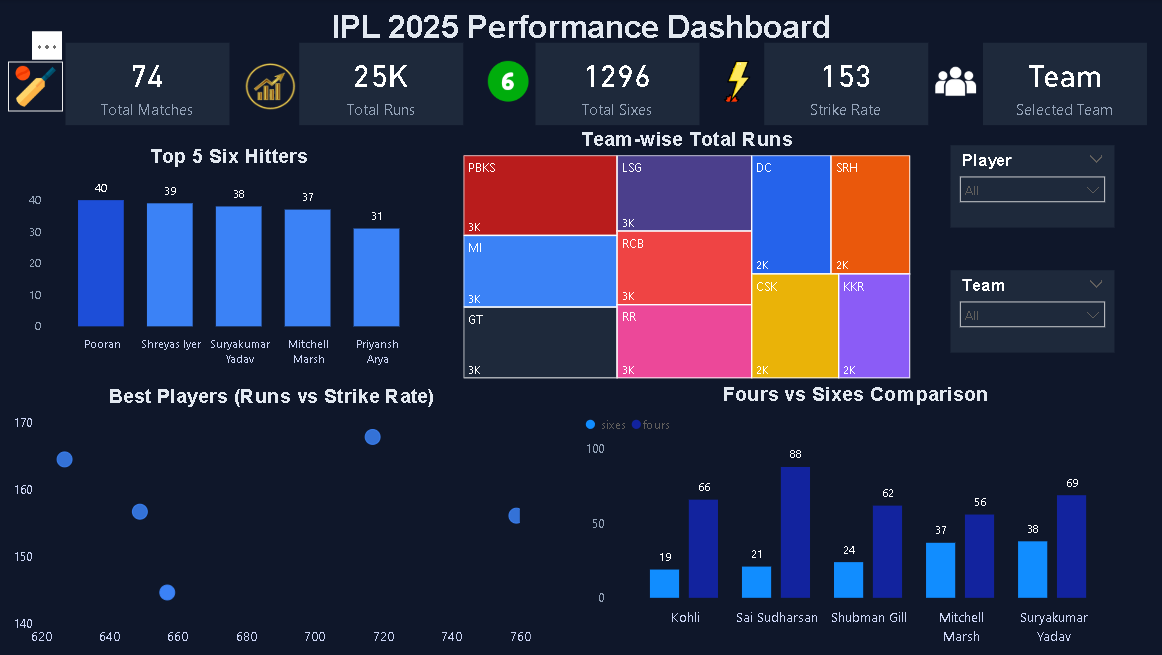

The dashboard page shown, as its layout file describes it:
{"tool":"powerbi","page":{"name":"Page 1","canvas":[1280,720],"ordinal":0},"visuals":[{"type":"columnChart","title":"Top 5 Six Hitters","fields":{"Category":["ipl_batsman.striker"],"Y":["Sum(ipl_batsman.sixes)"]},"box":[28.9,160,450,250],"z":0},{"type":"card","fields":{"Values":["ipl_batsman.Total Runs"]},"box":[330.7,48,179.8,90.6],"z":1000},{"type":"card","fields":{"Values":["ipl_batsman.Total Sixes"]},"box":[590.1,48,179.8,90.6],"z":3000},{"type":"card","fields":{"Values":["ipl_batsman.Strike Rate"]},"box":[841.2,48,179.8,90.6],"z":4000},{"type":"textbox","title":"IPL 2025 Performance Dashboard","box":[0,11,1280.3,37],"z":5000},{"type":"treemap","title":"Team-wise Total Runs","fields":{"Group":["ipl_batsman.player_team"],"Values":["ipl_batsman.Total Runs"]},"box":[506.3,141.3,500,280],"z":6000},{"type":"scatterChart","title":"Best Players (Runs vs Strike Rate)","fields":{"X":["ipl_batsman.Total Runs"],"Y":["ipl_batsman.Strike rate"],"Series":["ipl_batsman.striker"],"Category":["ipl_batsman.player_team"]},"box":[11,424,579.1,296.4],"z":7000},{"type":"slicer","fields":{"Values":["ipl_batsman.player_team"]},"box":[1045.6,297.8,179.8,90.6],"z":8000},{"type":"slicer","fields":{"Values":["ipl_batsman.striker"]},"box":[1045.6,160.5,179.8,90.6],"z":9000},{"type":"card","fields":{"Values":["matches.Total Matches"]},"box":[74.1,48,179.8,90.6],"z":11000},{"type":"card","fields":{"Values":["matches.Selected Team"]},"box":[1081.3,48,179.8,90.6],"z":12000},{"type":"image","box":[11,68.6,60.4,54.9],"z":13000},{"type":"image","box":[1020.9,63.1,60.4,54.9],"z":16000},{"type":"image","box":[780.8,63.1,60.4,54.9],"z":17000},{"type":"image","box":[529.7,63.1,60.4,54.9],"z":18000},{"type":"image","box":[253.9,53.5,90.6,85.1],"z":19000},{"type":"clusteredColumnChart","title":"Fours vs Sixes Comparison","fields":{"Category":["ipl_batsman.striker"],"Y":["Sum(ipl_batsman.sixes)","Sum(ipl_batsman.fours)"]},"box":[639.5,421.3,603.8,295],"z":20000}]}

Visuals, with their boxes in screenshot pixels (x1, y1, x2, y2), scaled from the page's 1280x720 canvas onto the 1162x655 screenshot:
"Top 5 Six Hitters" columnChart: x1=26 y1=146 x2=435 y2=373
card - ipl_batsman.Total Runs: x1=300 y1=44 x2=463 y2=126
card - ipl_batsman.Total Sixes: x1=536 y1=44 x2=699 y2=126
card - ipl_batsman.Strike Rate: x1=764 y1=44 x2=927 y2=126
"IPL 2025 Performance Dashboard" textbox: x1=0 y1=10 x2=1161 y2=44
"Team-wise Total Runs" treemap: x1=460 y1=129 x2=914 y2=383
"Best Players (Runs vs Strike Rate)" scatterChart: x1=10 y1=386 x2=536 y2=654
slicer - ipl_batsman.player_team: x1=949 y1=271 x2=1112 y2=353
slicer - ipl_batsman.striker: x1=949 y1=146 x2=1112 y2=228
card - matches.Total Matches: x1=67 y1=44 x2=230 y2=126
card - matches.Selected Team: x1=982 y1=44 x2=1145 y2=126
image: x1=10 y1=62 x2=65 y2=112
image: x1=927 y1=57 x2=982 y2=107
image: x1=709 y1=57 x2=764 y2=107
image: x1=481 y1=57 x2=536 y2=107
image: x1=230 y1=49 x2=313 y2=126
"Fours vs Sixes Comparison" clusteredColumnChart: x1=581 y1=383 x2=1129 y2=652
